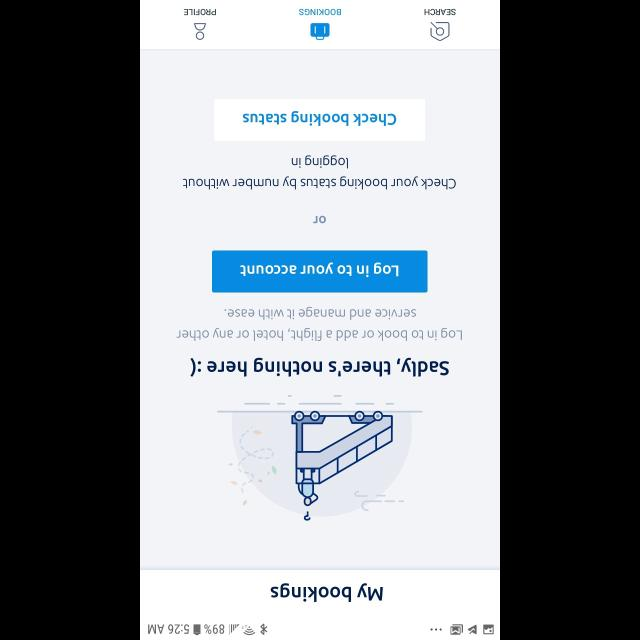icon: (430, 22, 450, 42), (310, 23, 330, 41), (194, 23, 206, 41)
image: (217, 394, 423, 520)
text: (176, 306, 462, 342), (182, 155, 456, 189), (189, 357, 449, 377), (270, 582, 382, 602), (299, 8, 341, 15), (184, 8, 216, 15), (424, 8, 456, 15), (312, 216, 326, 224)
textbutton: (212, 250, 428, 292), (215, 99, 425, 141)
uppertaskbar: (140, 622, 500, 640)
